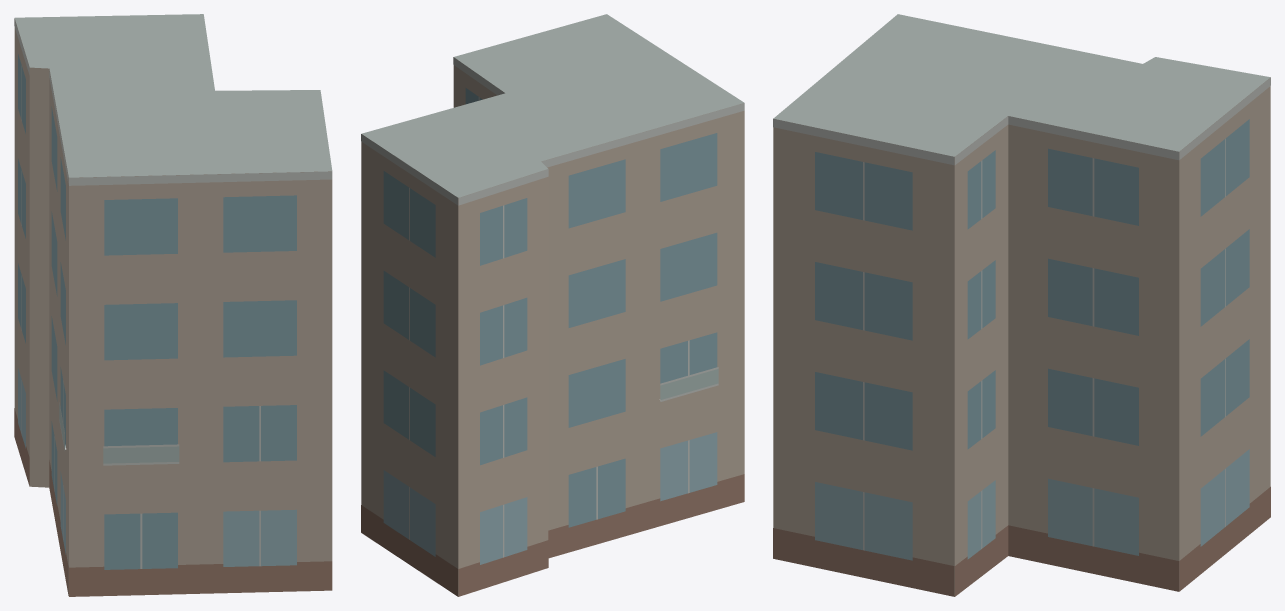
File: survey-upis-33026632.glb
3 renders of one model, left to right at view 1: azimuth 30°, elevation 25°; view 2: azimuth 150°, elevation 25°; view 3: azimuth 270°, elevation 25°, orthographic. The views are drawn at different scales.
Parts seen in each view (by area): view 1: survey-upis-33026632.tmp; view 2: survey-upis-33026632.tmp; view 3: survey-upis-33026632.tmp.
Boxes of the visible parts, x1=… form: survey-upis-33026632.tmp: x1=14, y1=14, x2=332, y2=596; survey-upis-33026632.tmp: x1=361, y1=14, x2=744, y2=596; survey-upis-33026632.tmp: x1=773, y1=14, x2=1270, y2=596.
Size of the model in its own units: 8.71 by 12.5 by 12.82.
